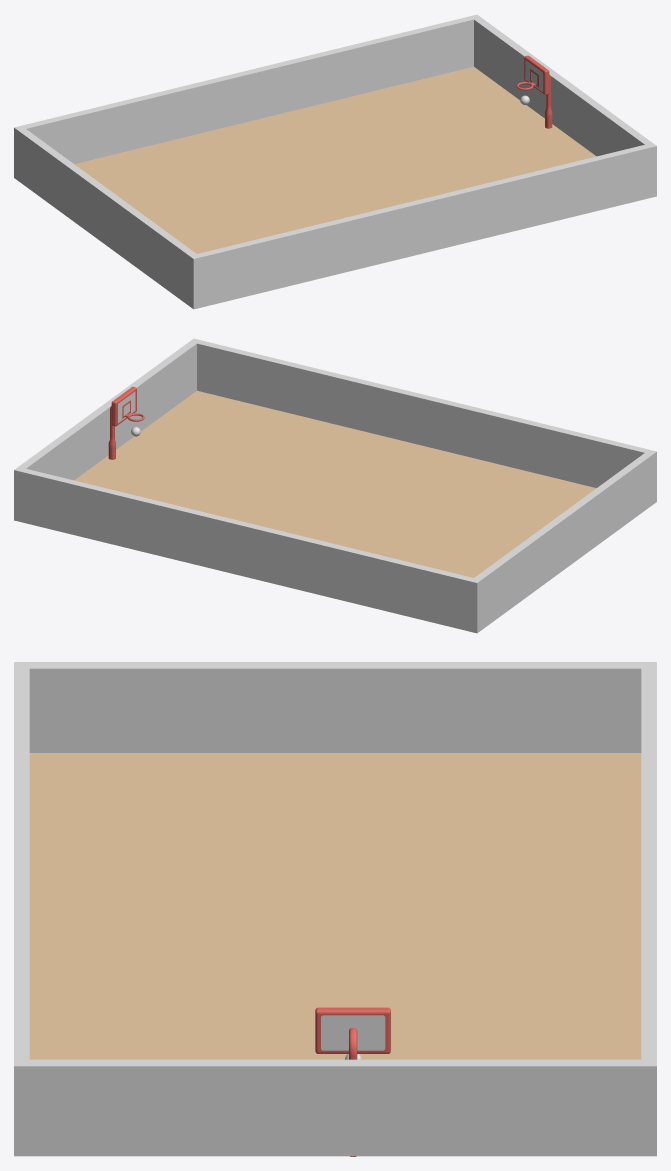
The picture shows the model from 3 angles, top to bottom: view 1: azimuth 30°, elevation 25°; view 2: azimuth 150°, elevation 25°; view 3: azimuth 270°, elevation 25°; orthographic projection. The views are drawn at different scales.
Parts seen in each view (by area): view 1: ground, Ground, pota; view 2: ground, Ground, pota; view 3: Ground, ground, pota.
Part boxes in pixels (bbox=[...]): ground: bbox=[14, 14, 656, 309]; Ground: bbox=[74, 66, 596, 253]; pota: bbox=[516, 55, 552, 128]; ground: bbox=[14, 338, 656, 633]; Ground: bbox=[74, 390, 596, 577]; pota: bbox=[108, 386, 144, 459]; Ground: bbox=[29, 753, 641, 1059]; ground: bbox=[14, 662, 656, 1156]; pota: bbox=[315, 1007, 390, 1156].
Size of the model in its own units: 11.92 by 1.88 by 8.01.
